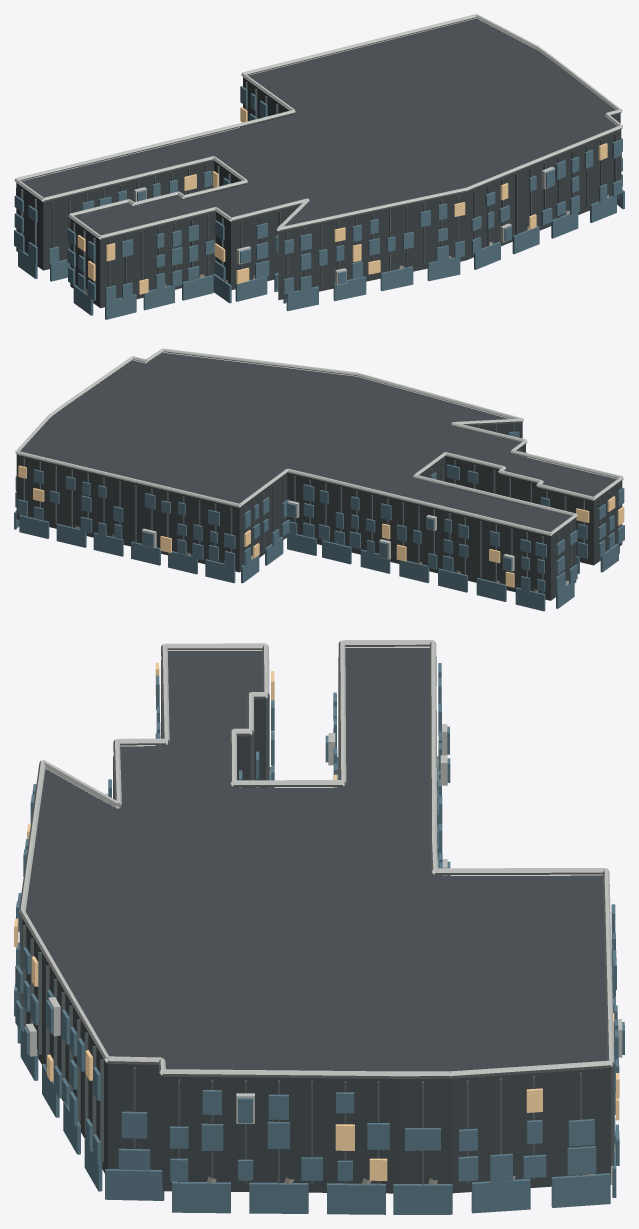
The model's file is perimeter.glb.
The picture shows the model from 3 angles, top to bottom: view 1: azimuth 30°, elevation 25°; view 2: azimuth 150°, elevation 25°; view 3: azimuth 270°, elevation 25°; orthographic projection. The views are drawn at different scales.
Visible parts, largest first — view 1: perimeter-pi-charcoal, perimeter-pi-glass, perimeter-pi-frame, perimeter-pi-folds, perimeter-pi-window-warm; view 2: perimeter-pi-charcoal, perimeter-pi-glass, perimeter-pi-frame, perimeter-pi-folds, perimeter-pi-window-warm; view 3: perimeter-pi-charcoal, perimeter-pi-glass, perimeter-pi-frame, perimeter-pi-folds, perimeter-pi-window-warm.
Part boxes in pixels (box(x1,y1,x2,y2)): perimeter-pi-charcoal: box(16, 18, 621, 308); perimeter-pi-glass: box(14, 86, 624, 319); perimeter-pi-frame: box(14, 14, 622, 285); perimeter-pi-folds: box(21, 81, 616, 291); perimeter-pi-window-warm: box(77, 107, 607, 294); perimeter-pi-charcoal: box(16, 352, 622, 600); perimeter-pi-glass: box(14, 431, 624, 611); perimeter-pi-frame: box(15, 348, 623, 571); perimeter-pi-folds: box(23, 424, 619, 593); perimeter-pi-window-warm: box(18, 465, 624, 587); perimeter-pi-charcoal: box(22, 647, 610, 1193); perimeter-pi-glass: box(14, 663, 624, 1214); perimeter-pi-frame: box(19, 640, 622, 1123); perimeter-pi-folds: box(19, 656, 614, 1184); perimeter-pi-window-warm: box(14, 662, 619, 1180).
Bounding box in the file's own units: 3.71 × 0.5509 × 2.17.
